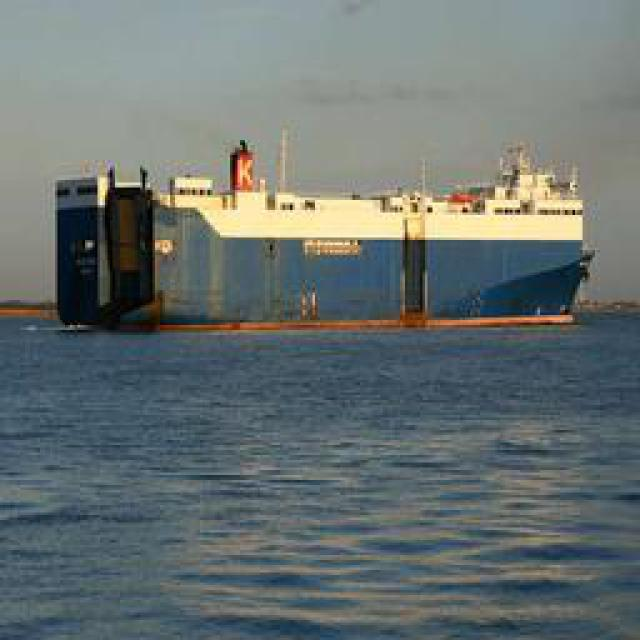Ship: (156, 132, 594, 325)
